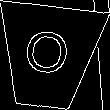O_S: (23, 29, 74, 85)
